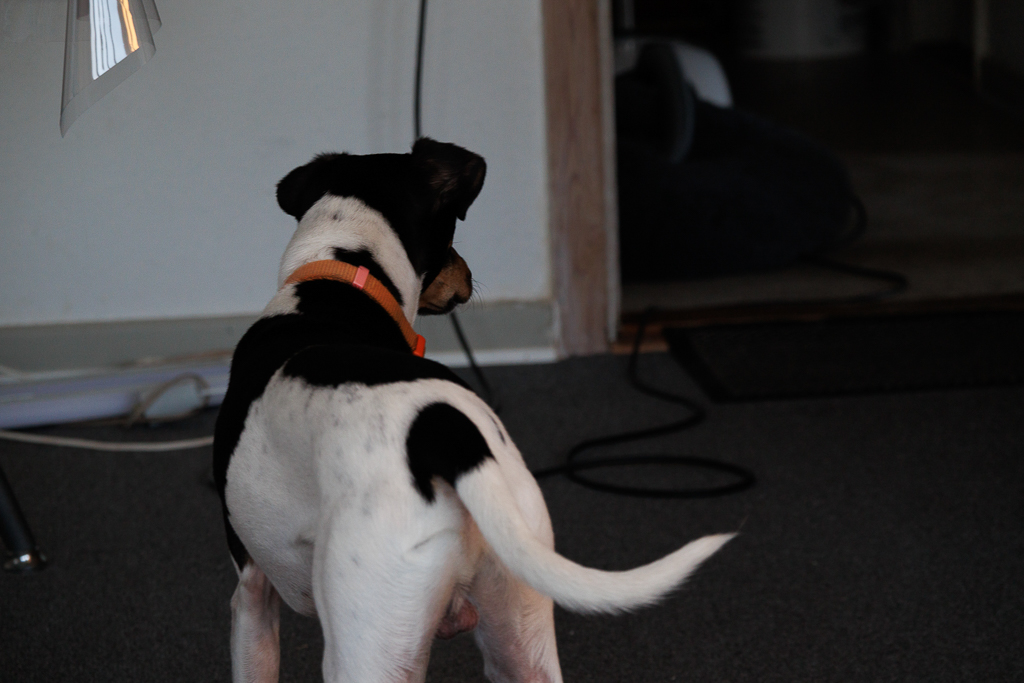Dog: (194, 130, 750, 683)
